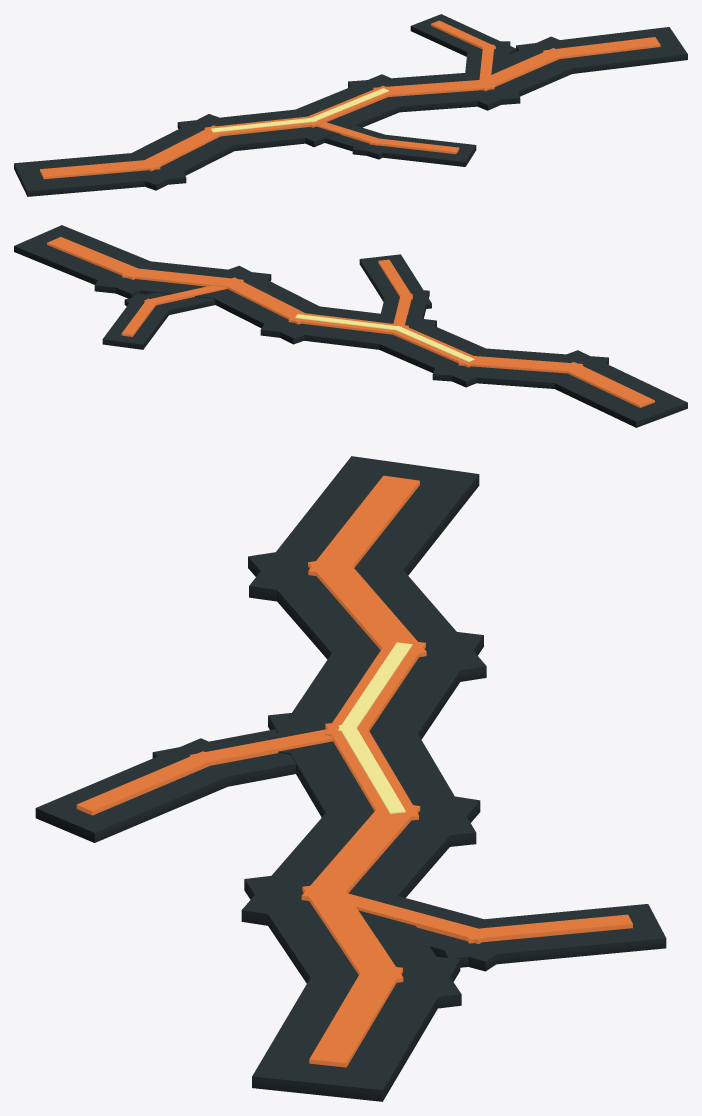
File: glass_crack.glb
3 views of the same model, one above another, from view 1: azimuth 30°, elevation 25°; view 2: azimuth 150°, elevation 25°; view 3: azimuth 270°, elevation 25° (orthographic). The views are drawn at different scales.
Visible parts, largest first — view 1: glass_crack; view 2: glass_crack; view 3: glass_crack.
Part boxes in pixels (x1,y1,x2,y2): glass_crack: [14, 14, 687, 196]; glass_crack: [14, 225, 687, 427]; glass_crack: [35, 456, 666, 1101].
Bounding box in the file's own units: 4.68 × 0.06 × 1.97.
4 materials, 4 textured.
